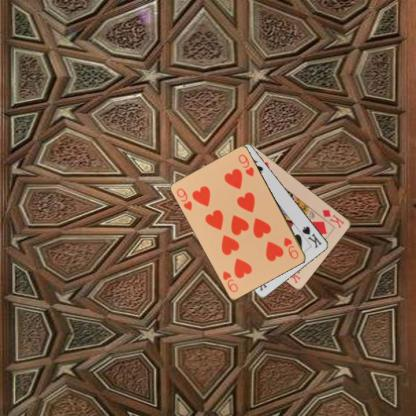9h: (174, 186, 193, 212), (281, 235, 300, 260)
Kd: (320, 207, 346, 230)
Ks: (300, 224, 323, 250)
